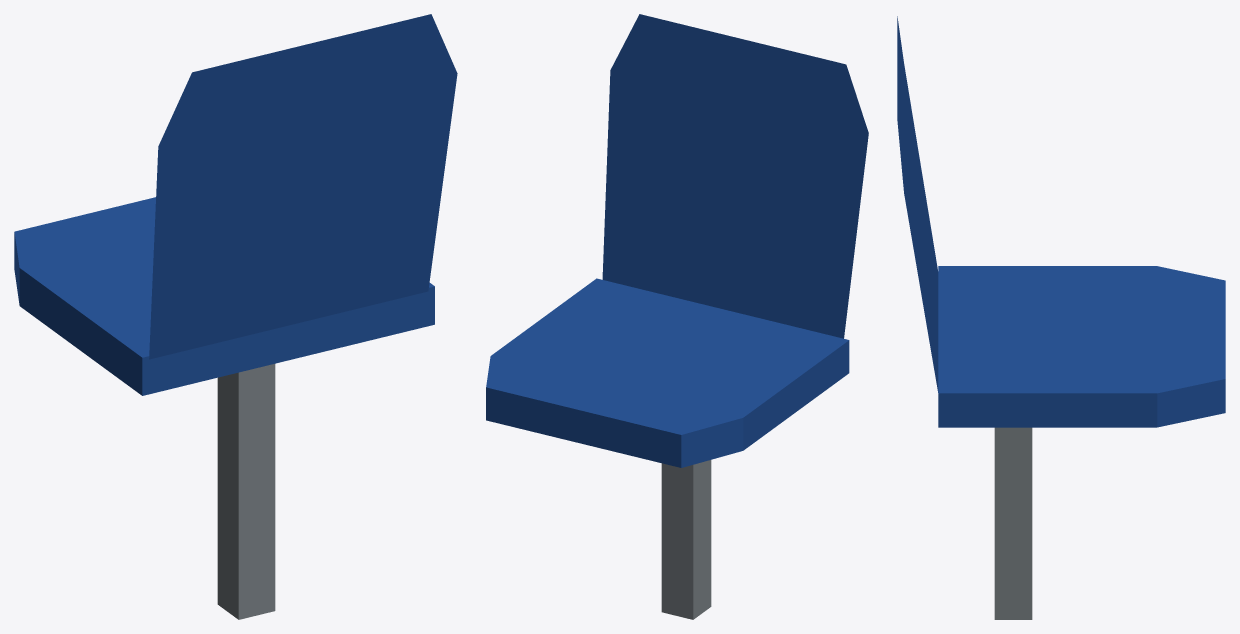
Rendered from arena_seat.glb.
3 views of the same model, side by side, from view 1: azimuth 30°, elevation 25°; view 2: azimuth 150°, elevation 25°; view 3: azimuth 270°, elevation 25° (orthographic). The views are drawn at different scales.
Visible parts, largest first — view 1: ArenaSeat; view 2: ArenaSeat; view 3: ArenaSeat.
Part boxes in pixels (x1,y1,x2,y2): ArenaSeat: [14, 14, 457, 619]; ArenaSeat: [486, 14, 868, 619]; ArenaSeat: [897, 16, 1225, 619].
Bounding box in the file's own units: 0.45 × 0.88 × 0.48.
